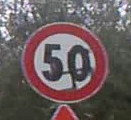limite 50: (19, 21, 111, 104)
